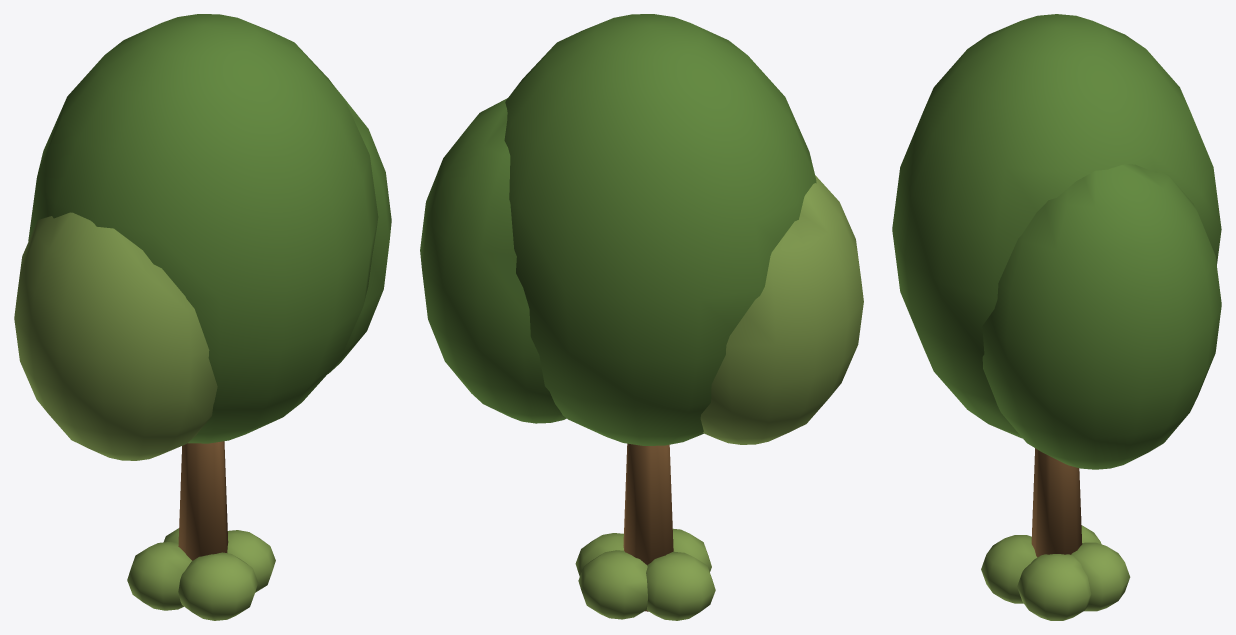
The model's file is tree_2.glb.
The picture shows the model from 3 angles, left to right: view 1: azimuth 30°, elevation 25°; view 2: azimuth 150°, elevation 25°; view 3: azimuth 270°, elevation 25°; orthographic projection.
Visible parts, largest first — view 1: tree_2; view 2: tree_2; view 3: tree_2.
Boxes of the visible parts, x1,y1,x2,y2 form: tree_2: (14, 14, 391, 620); tree_2: (420, 14, 863, 620); tree_2: (892, 14, 1221, 620).
Size of the model in its own units: 1.91 by 2.79 by 1.45.
